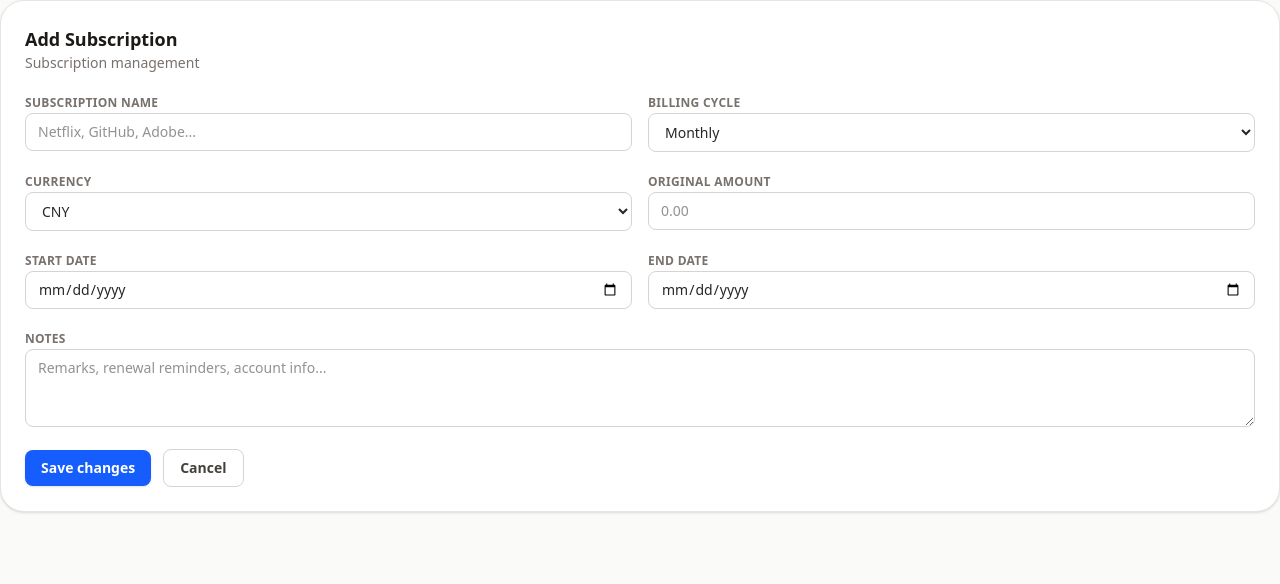
Test: SubscriptionForm › Form Validation › should show error when required fields are missing
The image size is (1280, 584).
Click the button "Save changes": (88, 468) 25,450 -> 151,486
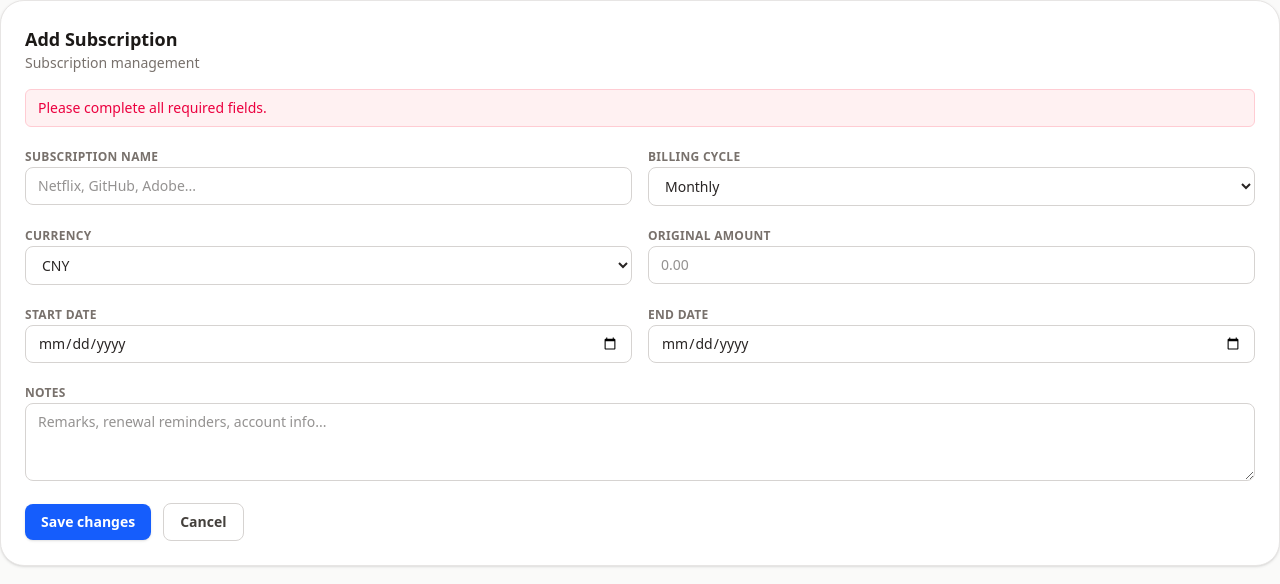
Expected: the text "Please complete all required fields." is shown, 25,89 -> 1255,127
